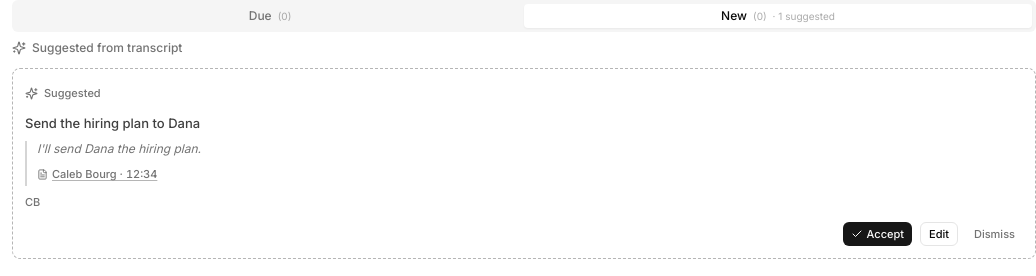
ActionSectionContent review flow › removes a dismissed card
Click the button "Dismiss".
click(994, 234)  # box [966,222,1023,246]
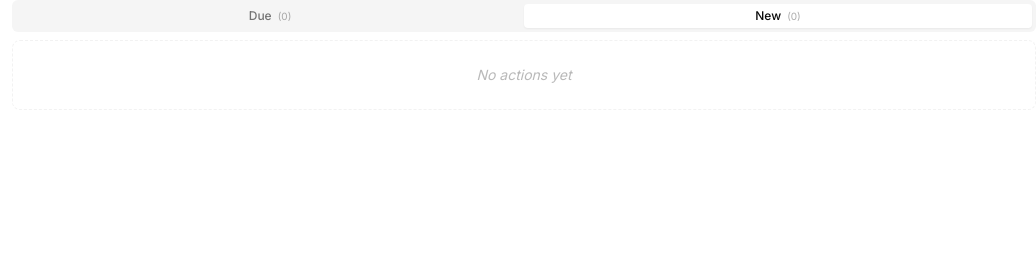
Now the element with test id "suggested-action-card" is gone
